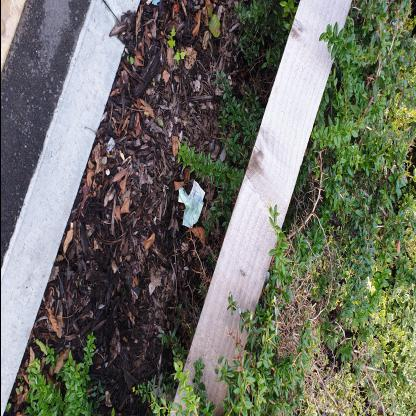kagit: (177, 180, 204, 228)
